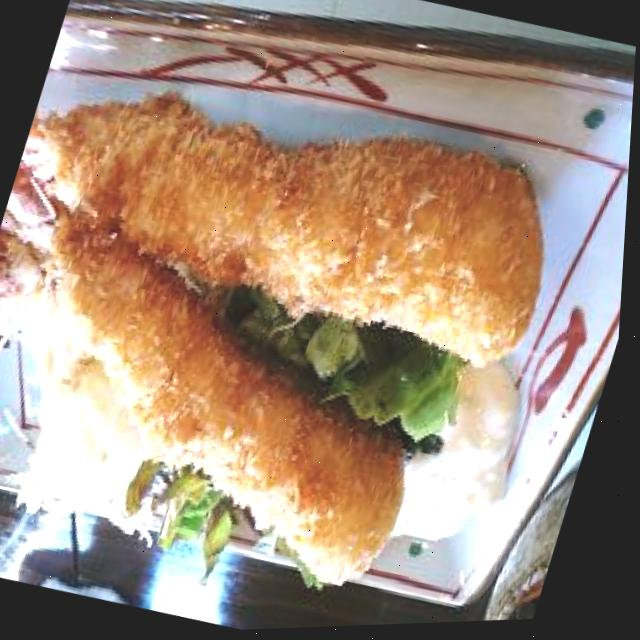炸货点心: (0, 33, 599, 637)
熟制海鲜: (0, 33, 599, 637)
